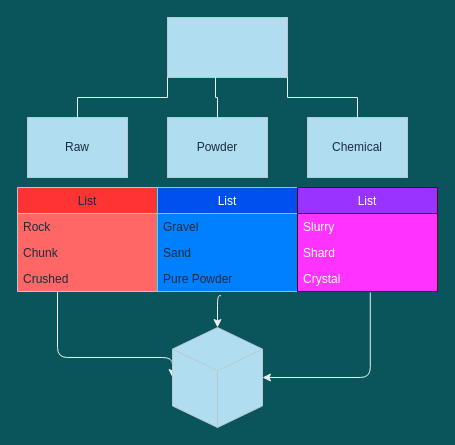
Image size: 455x445. Some labels were removed from this diagram. Here are the shapes that lost their labels. From the top down, the box of each, then its label:
(166, 16, 288, 78): Refinement
(172, 326, 262, 428): Pure Ore
